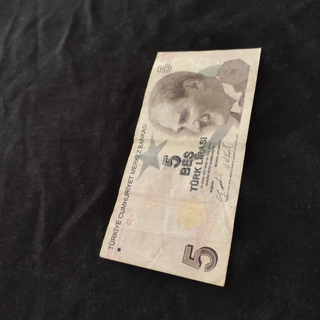5TLFront: (98, 47, 261, 287)
